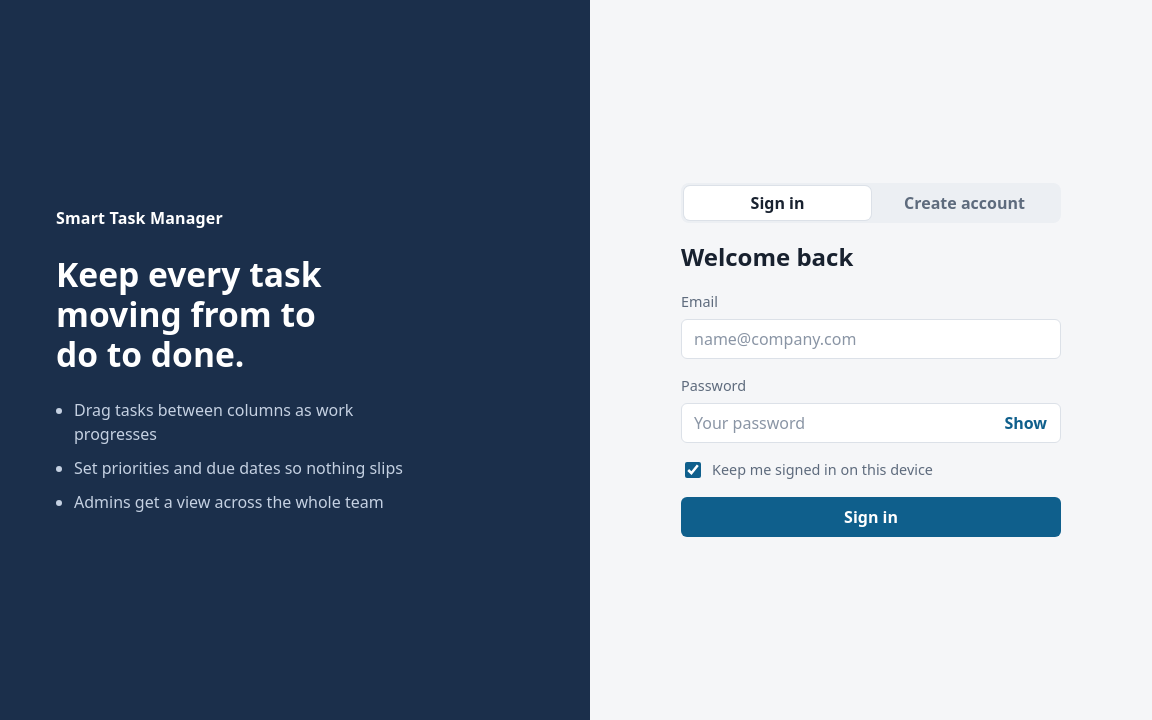
it: wrong password shows the server message
In the field labelled "Email": x=871, y=339 left=681, top=319, right=1061, bottom=359, type "asha@example.com"
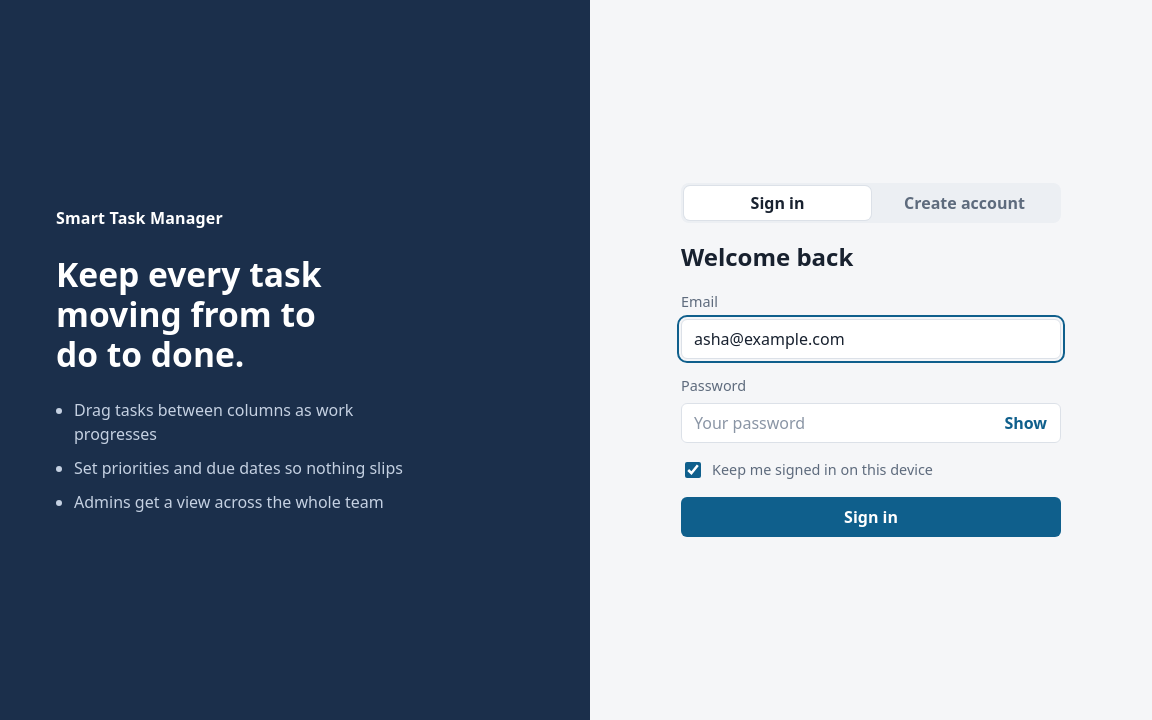
In the password field labelled "Password": x=871, y=423 left=681, top=403, right=1061, bottom=443, type "WrongPass1"
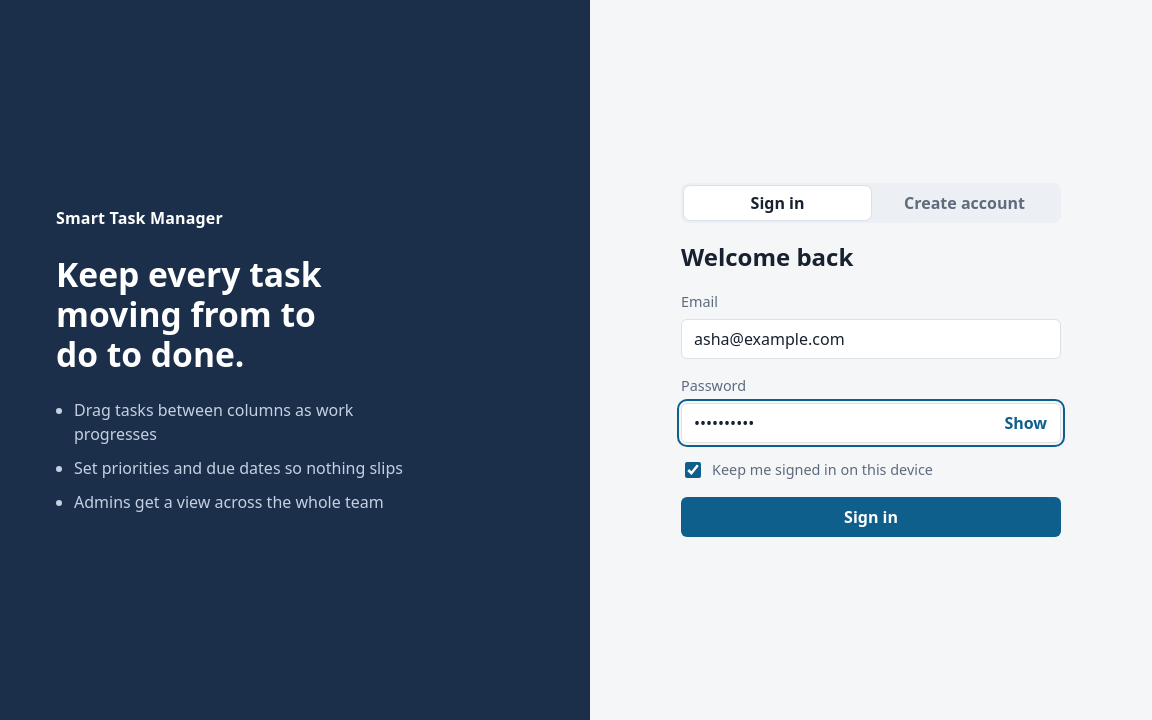
Click the button "Sign in": x=871, y=517 left=681, top=497, right=1061, bottom=537
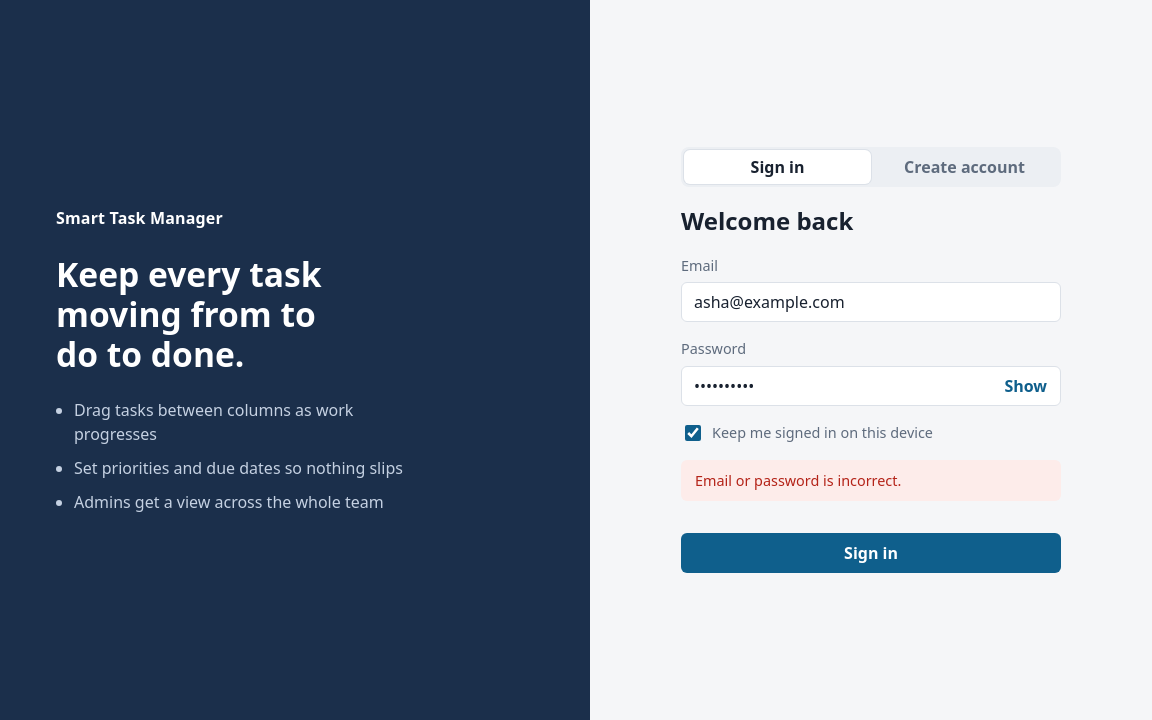
Now the message reads "Email or password is incorrect.", box left=695, top=471, right=901, bottom=490
